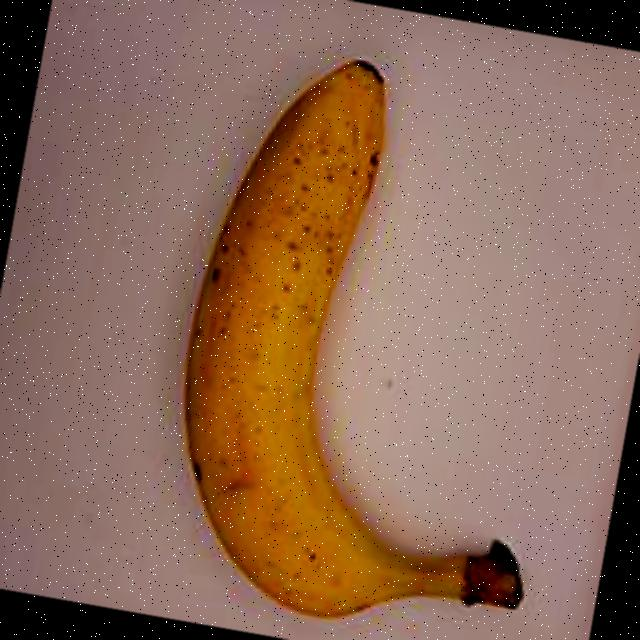Overripe: (128, 15, 626, 640)
